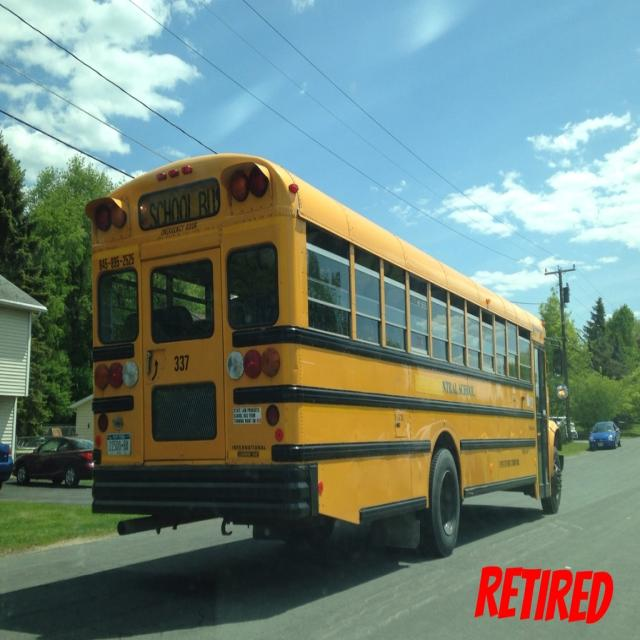car: (590, 422, 623, 447)
